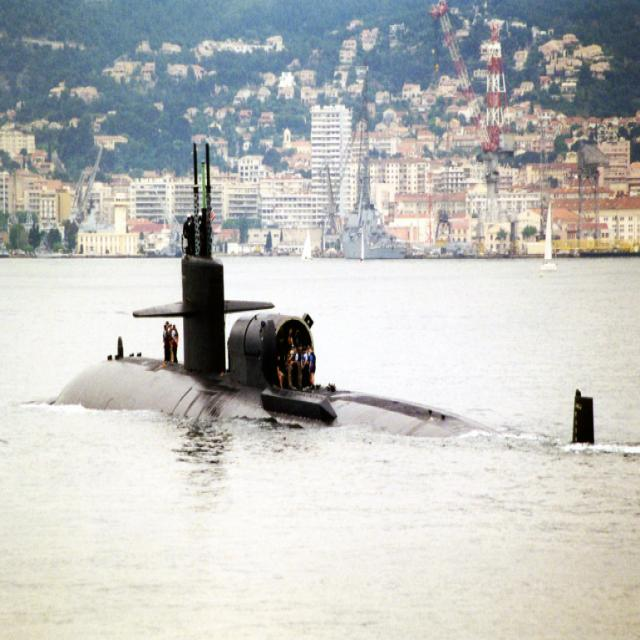submarine: (54, 142, 596, 447)
